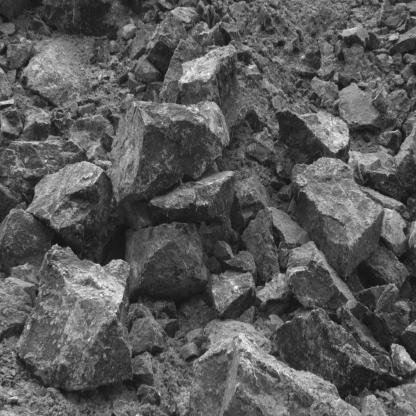stone: (19, 248, 133, 387), (190, 336, 363, 416), (110, 98, 227, 205), (291, 157, 385, 280), (275, 307, 404, 390), (24, 160, 121, 258), (125, 223, 208, 299), (286, 241, 358, 313), (0, 141, 89, 193), (150, 170, 235, 223), (352, 284, 414, 350), (1, 206, 56, 274), (178, 44, 239, 105), (276, 111, 350, 159), (242, 205, 280, 282), (198, 322, 273, 354), (146, 16, 188, 73), (366, 240, 414, 289), (208, 268, 256, 315), (70, 114, 116, 162), (270, 204, 307, 261), (126, 303, 166, 355), (0, 277, 36, 334), (337, 82, 383, 126), (234, 177, 273, 226), (251, 274, 293, 314), (361, 185, 410, 217), (365, 163, 408, 199), (396, 123, 416, 193), (246, 127, 281, 164), (383, 208, 409, 257), (19, 107, 51, 143), (0, 106, 25, 148), (191, 25, 226, 50), (391, 341, 416, 376), (132, 54, 161, 83), (390, 384, 416, 416), (354, 156, 381, 185), (7, 42, 35, 69), (309, 78, 340, 102), (224, 251, 257, 273), (343, 43, 364, 76), (132, 354, 153, 386), (385, 5, 409, 32), (394, 27, 416, 53), (170, 6, 200, 25), (343, 26, 369, 46), (376, 130, 401, 150), (138, 384, 161, 405), (220, 22, 243, 43), (364, 395, 387, 416), (230, 41, 251, 63), (0, 68, 11, 101), (179, 343, 198, 362), (187, 329, 204, 344)
